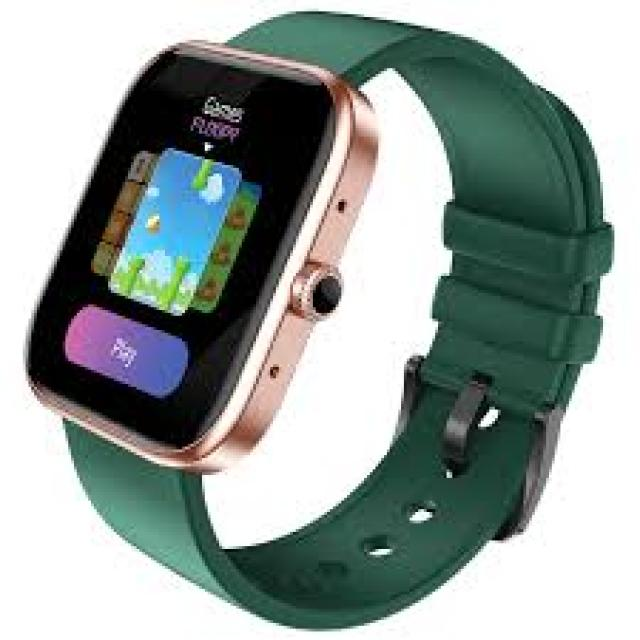objects: (65, 11, 609, 623), (28, 43, 375, 469)
